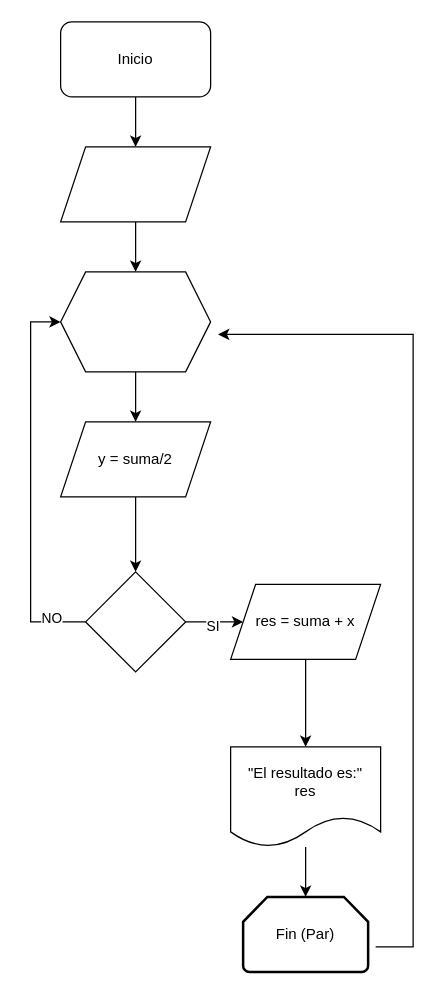
This 445x995 diagram has some shape labels left out. Each missing label, with the centre of its shape:
"Es divisible para 2" belongs at point 135,621.
"Para x = 0 hasta x <= 100 pares" belongs at point 135,321.
"suma = 0" belongs at point 135,184.
